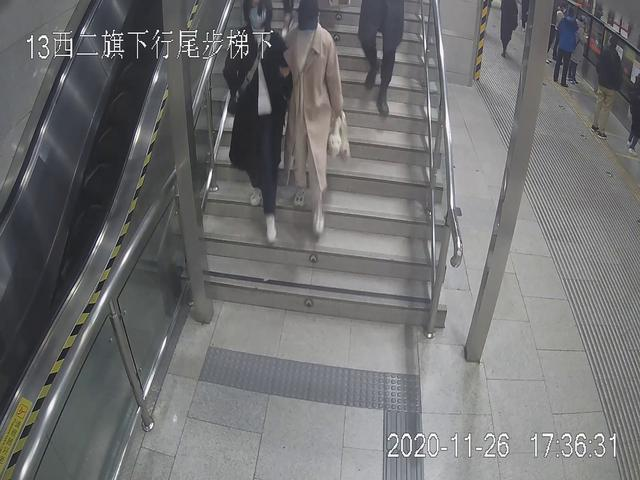person: (209, 1, 292, 238), (274, 1, 347, 241), (588, 33, 627, 142), (553, 6, 578, 98)
